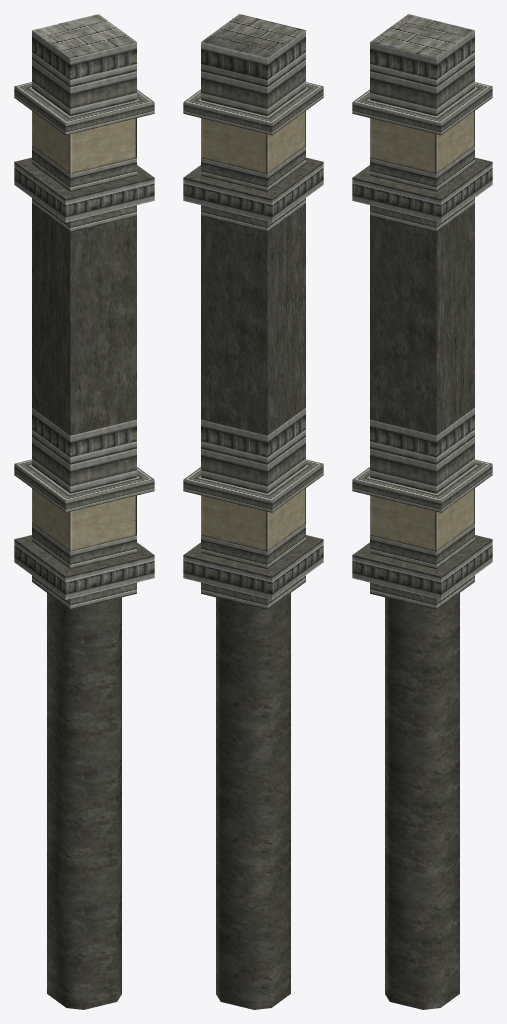
Rendered from L_MOUNTAIN_WTRFALL_COLUMN01.fbx.
3 views of the same model, side by side, from view 1: azimuth 30°, elevation 25°; view 2: azimuth 150°, elevation 25°; view 3: azimuth 330°, elevation 25° (orthographic).
Parts seen in each view (by area): view 1: L_MOUNTAIN_WTRFALL_COLUMN01; view 2: L_MOUNTAIN_WTRFALL_COLUMN01; view 3: L_MOUNTAIN_WTRFALL_COLUMN01.
Boxes of the visible parts, bbox=[...] form: L_MOUNTAIN_WTRFALL_COLUMN01: bbox=[14, 14, 154, 1009]; L_MOUNTAIN_WTRFALL_COLUMN01: bbox=[183, 14, 323, 1009]; L_MOUNTAIN_WTRFALL_COLUMN01: bbox=[352, 14, 492, 1009].
Bounding box in the file's own units: 16000 × 165000 × 16001.
6 materials, 6 textured.
